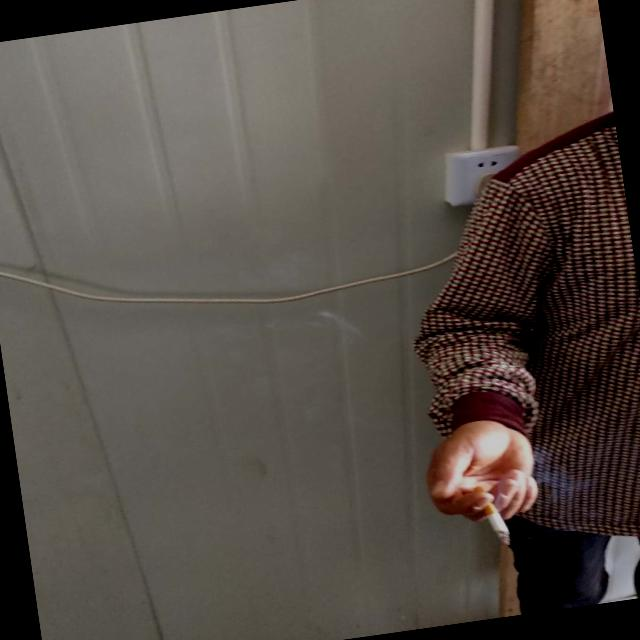cigarette: (464, 476, 538, 562)
